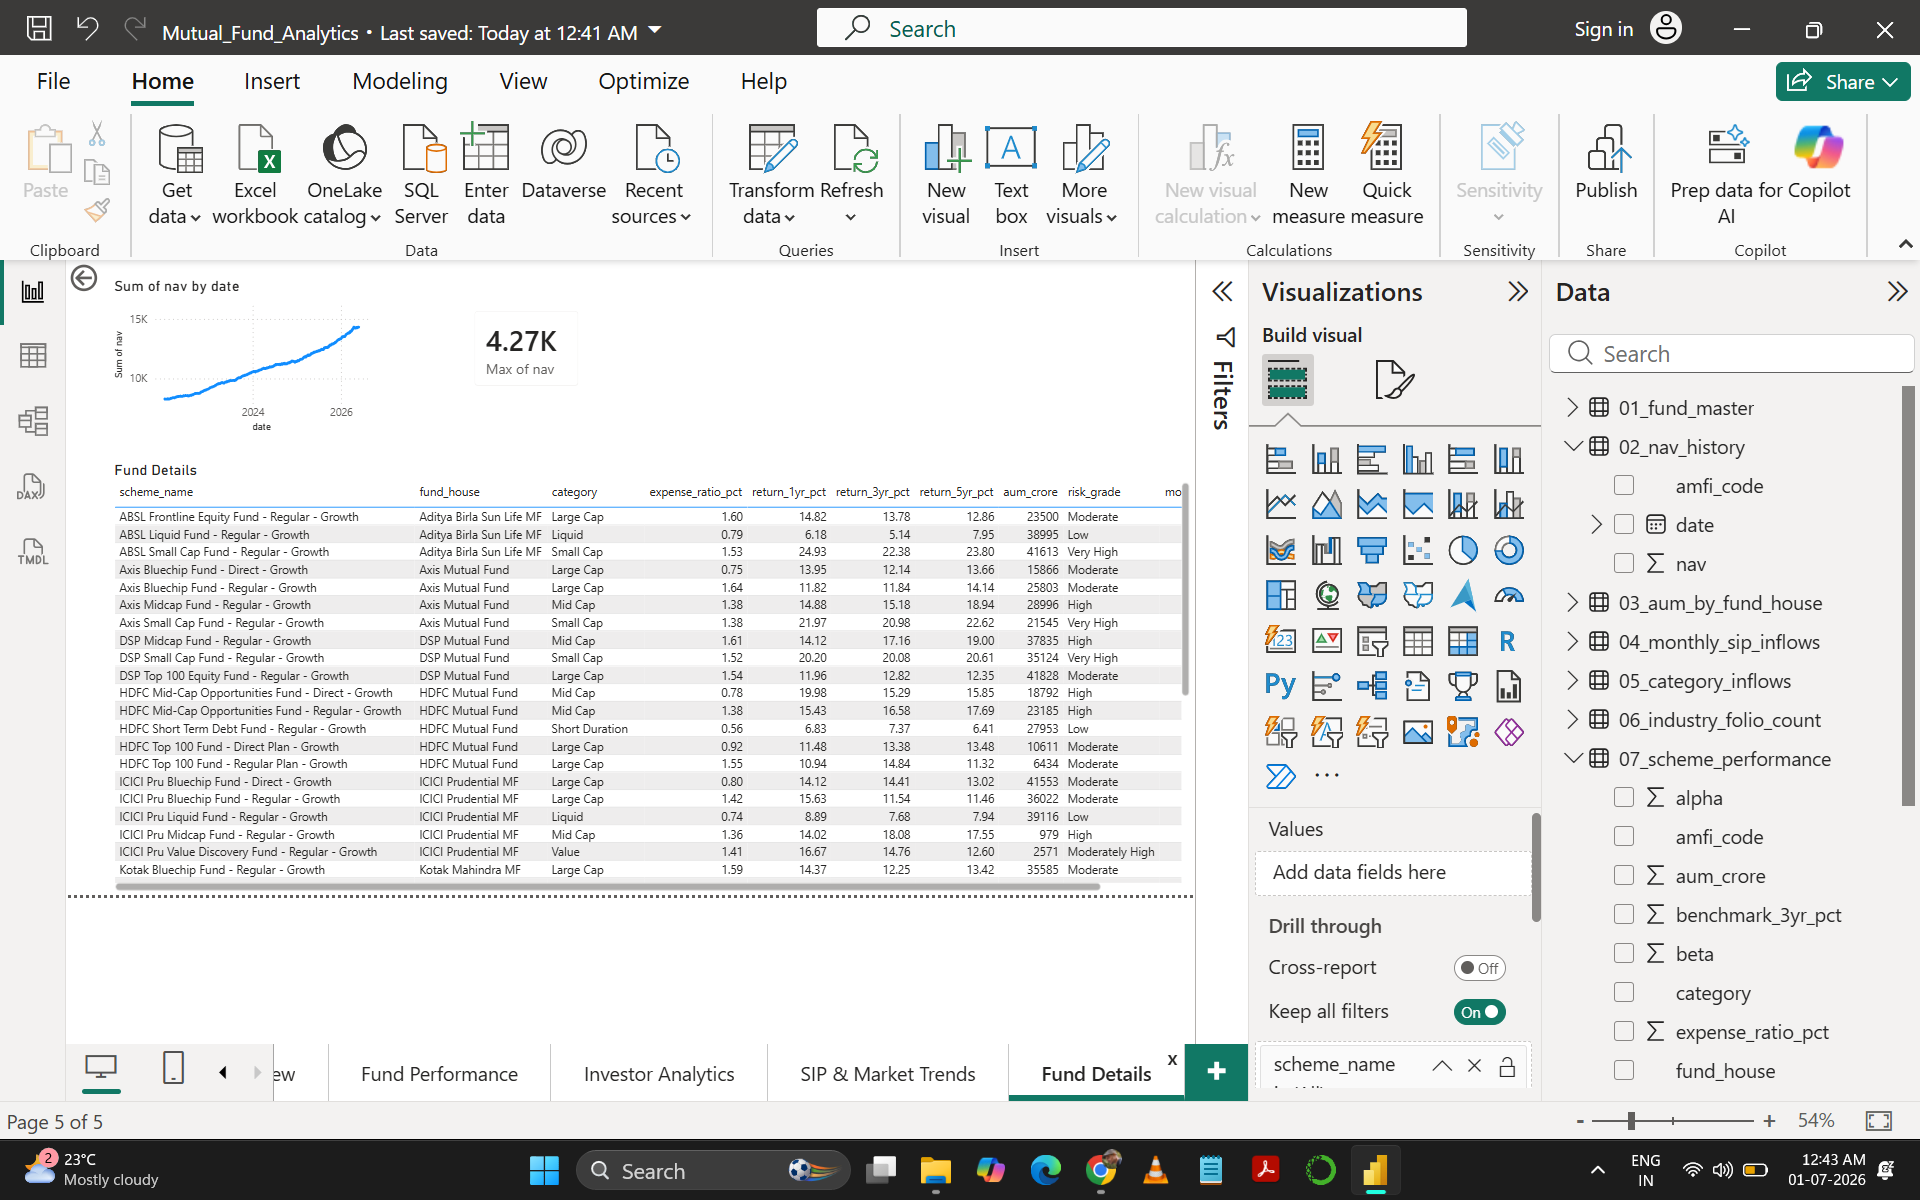

This screenshot's page, from the dashboard's own definition file:
{"tool":"powerbi","page":{"name":"Fund Details","canvas":[1280,720],"ordinal":4},"visuals":[{"type":"actionButton","box":[0,0,100,40],"z":0},{"type":"lineChart","fields":{"Y":["Sum(02_nav_history.nav)"],"Category":["02_nav_history.date"]},"box":[49.7,20.3,300.3,180.6],"z":1000},{"type":"cardVisual","fields":{"Data":["Max(02_nav_history.nav)"]},"box":[445.9,40.5,152.9,119.8],"z":2000},{"type":"tableEx","title":"Fund Details","fields":{"Values":["07_scheme_performance.scheme_name","07_scheme_performance.fund_house","07_scheme_performance.category","07_scheme_performance.expense_ratio_pct","07_scheme_performance.return_1yr_pct","07_scheme_performance.return_3yr_pct","07_scheme_performance.return_5yr_pct","07_scheme_performance.aum_crore","07_scheme_performance.risk_grade","07_scheme_performance.morningstar_rating"]},"box":[50.1,229.1,1229.2,491.7],"z":2001}]}

Visuals, with their boxes on the page's 1280x720 design canvas (x1, y1, x2, y2). These are canvas units, not pixel positions in the 1920x1200 screenshot, which may show the page scaled, cropped or inside an application window:
actionButton: BBox(0, 0, 100, 40)
lineChart - Sum(02_nav_history.nav) x 02_nav_history.date: BBox(50, 20, 350, 201)
cardVisual - Max(02_nav_history.nav): BBox(446, 40, 599, 160)
"Fund Details" tableEx: BBox(50, 229, 1279, 721)
